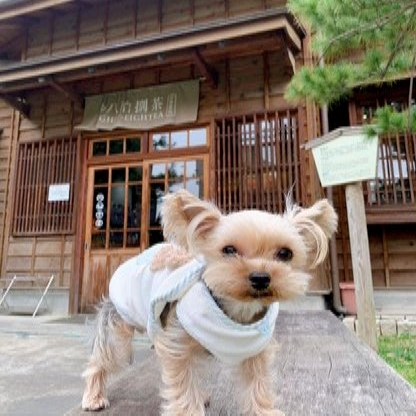yorkshire: (79, 191, 342, 416)
